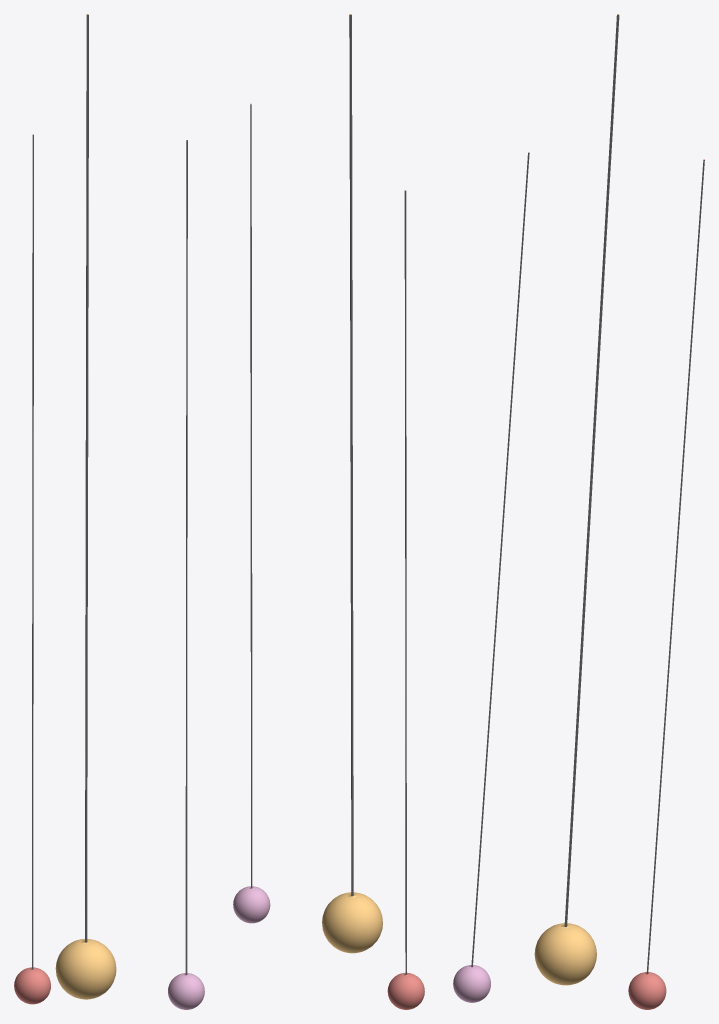
File: Planet6.fbx
The picture shows the model from 3 angles, left to right: view 1: azimuth 30°, elevation 25°; view 2: azimuth 210°, elevation 25°; view 3: azimuth 270°, elevation 25°; orthographic projection. The views are drawn at different scales.
Visible parts, largest first — view 1: Cylinder.017; view 2: Cylinder.017; view 3: Cylinder.017.
Boxes of the visible parts, x1,y1,x2,y2 form: Cylinder.017: [14, 14, 204, 1009]; Cylinder.017: [233, 14, 424, 1009]; Cylinder.017: [453, 14, 704, 1009].
Size of the model in its own units: 13862 by 115301 by 25958.
